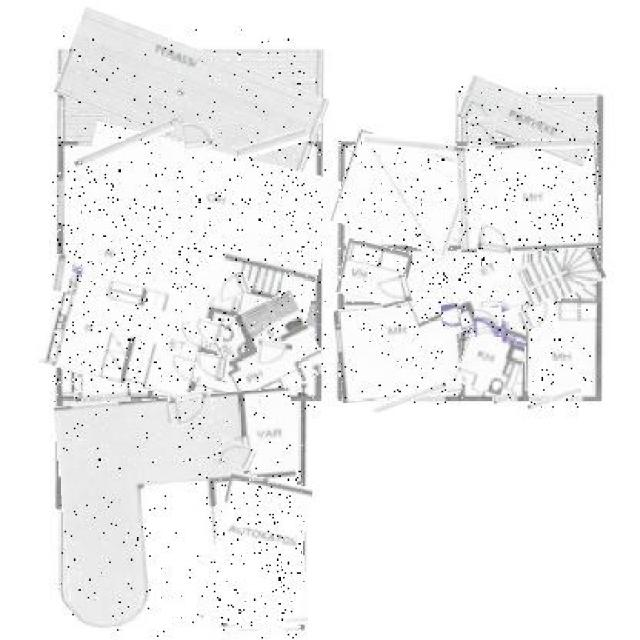door: (169, 390, 214, 424), (478, 224, 514, 256), (255, 340, 292, 369), (217, 440, 255, 468), (212, 274, 251, 301), (377, 276, 411, 306), (518, 302, 557, 328), (188, 316, 223, 342), (194, 354, 229, 380), (470, 119, 496, 152), (475, 308, 503, 337), (185, 122, 212, 149), (440, 305, 462, 332)
window: (72, 129, 176, 160), (236, 132, 310, 156), (363, 137, 457, 154), (372, 386, 446, 406), (74, 389, 131, 405), (528, 392, 582, 408), (515, 140, 591, 149), (54, 255, 72, 292), (59, 177, 64, 223), (492, 394, 516, 403)
zone: (52, 134, 326, 409), (59, 392, 303, 638), (59, 29, 326, 163), (457, 142, 600, 250), (208, 475, 306, 631), (337, 137, 469, 249), (337, 302, 463, 400), (403, 242, 526, 336), (214, 297, 321, 400), (457, 86, 597, 156), (526, 298, 596, 391), (460, 316, 529, 396), (518, 243, 604, 303), (338, 243, 411, 305)
